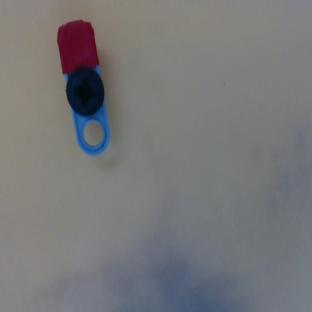part_1_good: (54, 17, 115, 158)
